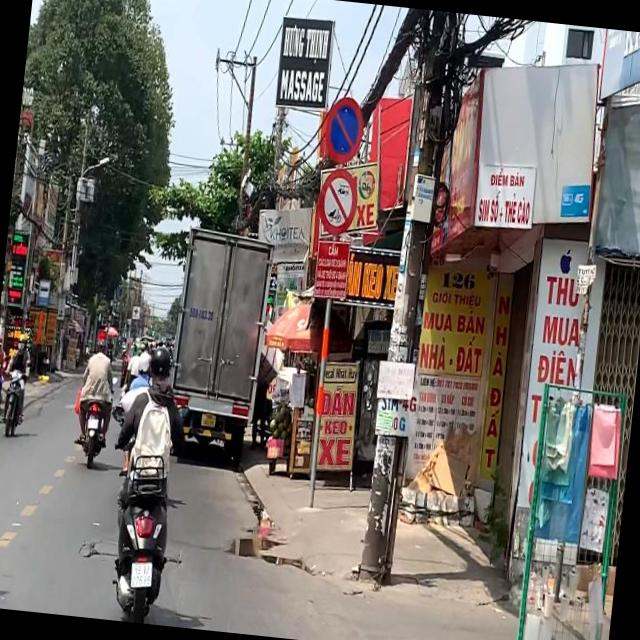P-131a: (320, 94, 366, 166)
